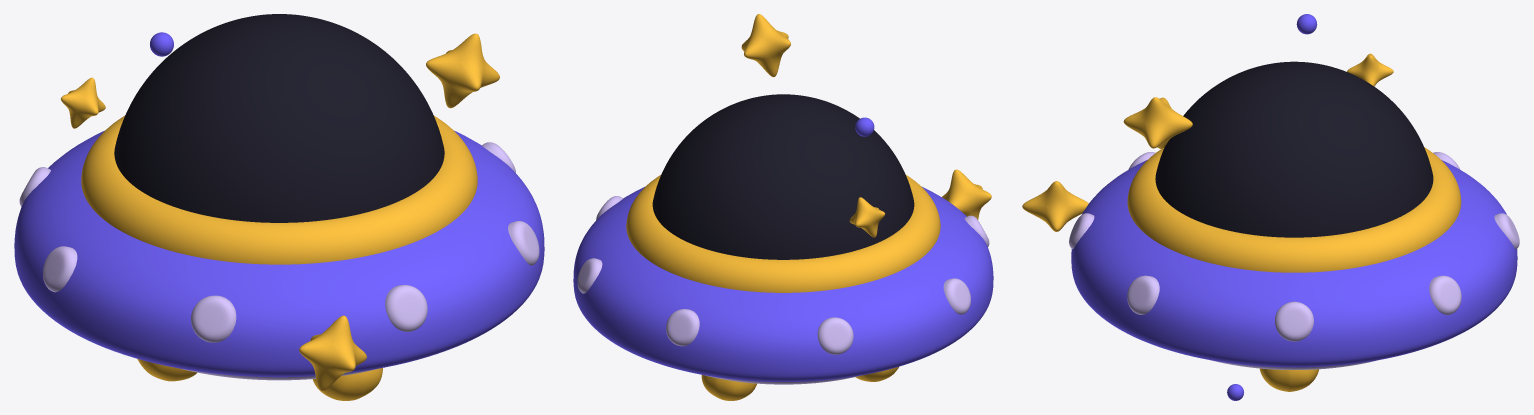
The model's file is ufo.glb.
3 renders of one model, left to right at view 1: azimuth 30°, elevation 25°; view 2: azimuth 150°, elevation 25°; view 3: azimuth 270°, elevation 25°, orthographic. The views are drawn at different scales.
Parts seen in each view (by area): view 1: Cylinder, Sphere, Torus, Cylinder.002, Cube.004, Cube.003, Cube, Cube.002, Cube.001, Cylinder.001, Sphere.003; view 2: Cylinder, Sphere, Torus, Cylinder.002, Cube.004, Cube.003, Cube, Cube.002, Cylinder.001; view 3: Cylinder, Sphere, Torus, Cylinder.002, Cube.004, Cube.003, Cube.001, Cube.002.
Part boxes in pixels (x1,y1,x2,y2): Cylinder: (14,130,544,377); Sphere: (114,14,444,222); Torus: (81,115,477,264); Cylinder.002: (19,142,539,342); Cube.004: (426,33,499,108); Cube.003: (299,315,366,391); Cube: (312,368,382,400); Cube.002: (61,77,105,128); Cube.001: (137,359,196,381); Cylinder.001: (182,369,376,380); Sphere.003: (150,32,173,56); Cylinder: (573,186,993,381); Sphere: (652,94,914,259); Torus: (626,175,940,292); Cylinder.002: (577,196,989,354); Cube.004: (741,14,790,77); Cube.003: (942,169,991,219); Cube: (701,375,756,400); Cube.002: (849,197,884,237); Cylinder.001: (705,375,861,384); Cylinder: (1071,160,1517,367); Sphere: (1155,61,1433,237); Torus: (1127,147,1461,272); Cylinder.002: (1069,152,1519,341); Cube.004: (1123,97,1192,148); Cube.003: (1022,181,1088,231); Cube.001: (1259,368,1318,391); Cube.002: (1347,53,1393,86).
Bounding box in the file's own units: 4.37 × 3.13 × 4.83.
